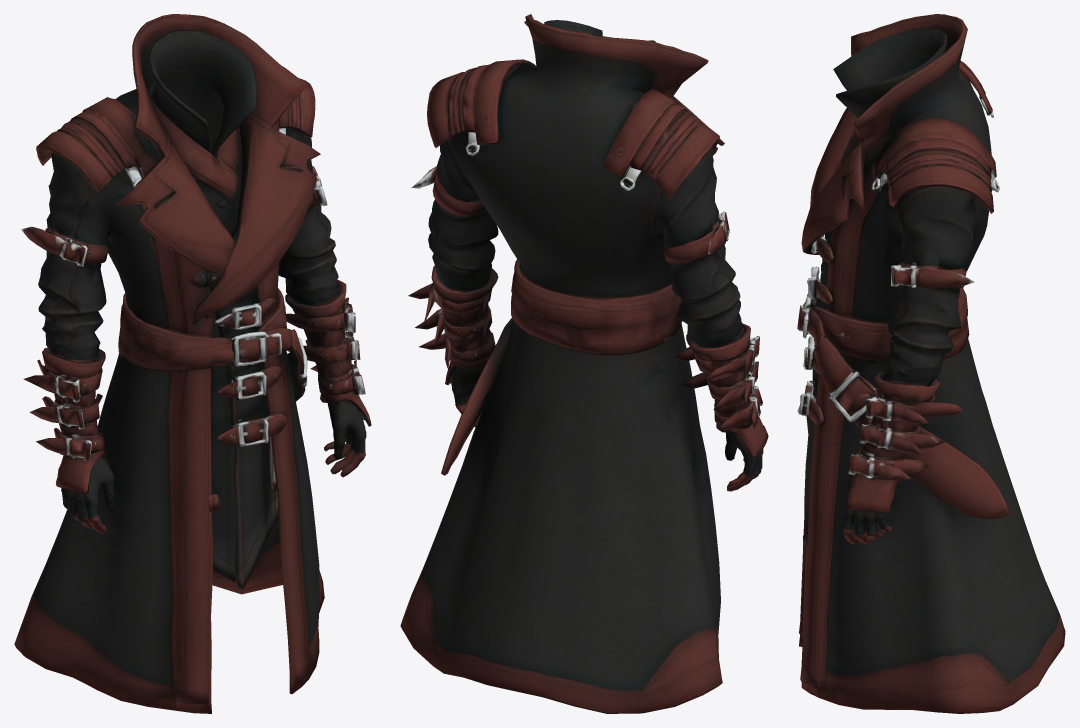
3 views of the same model, side by side, from view 1: azimuth 30°, elevation 25°; view 2: azimuth 150°, elevation 25°; view 3: azimuth 270°, elevation 25° (orthographic). The views are drawn at different scales.
Visible parts, largest first — view 1: Model_0; view 2: Model_0; view 3: Model_0.
Part boxes in pixels (<box>): Model_0: <box>14,14,371,713</box>; Model_0: <box>400,14,768,713</box>; Model_0: <box>797,14,1065,713</box>.
Bounding box in the file's own units: 0.5421 × 1 × 0.3816.
Materials: 1 (1 with a texture image).
